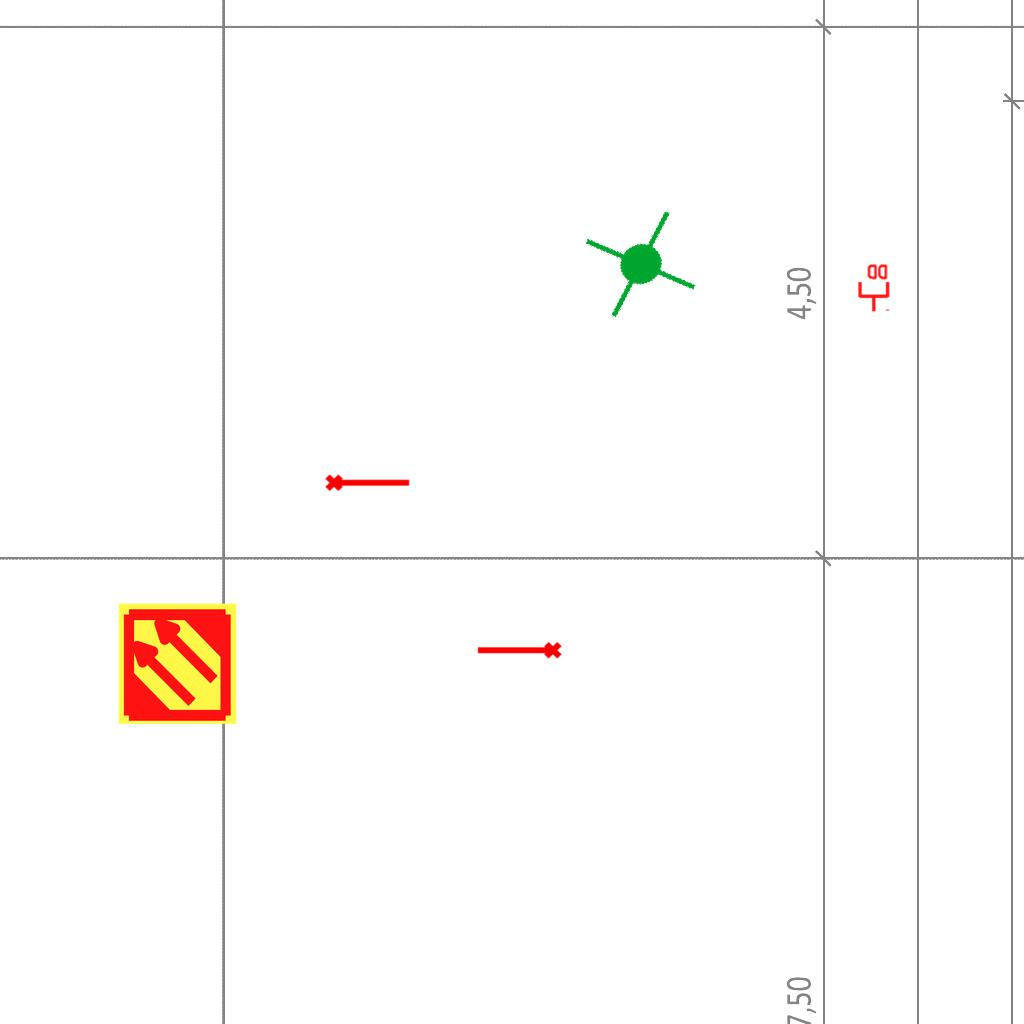ASR_Ansaugoeffnung: (475, 640, 563, 663), (324, 470, 412, 493)
ASR_Ansaugrauchmelder: (115, 601, 240, 726)
Datenanschluss_zweifach: (856, 262, 890, 313)
Notlichtbaustein_in_Allgemeinbeleuchtug_engebaut_Einbau_(1UG_und_2UG_Aufbauvaria: (576, 198, 705, 328)
